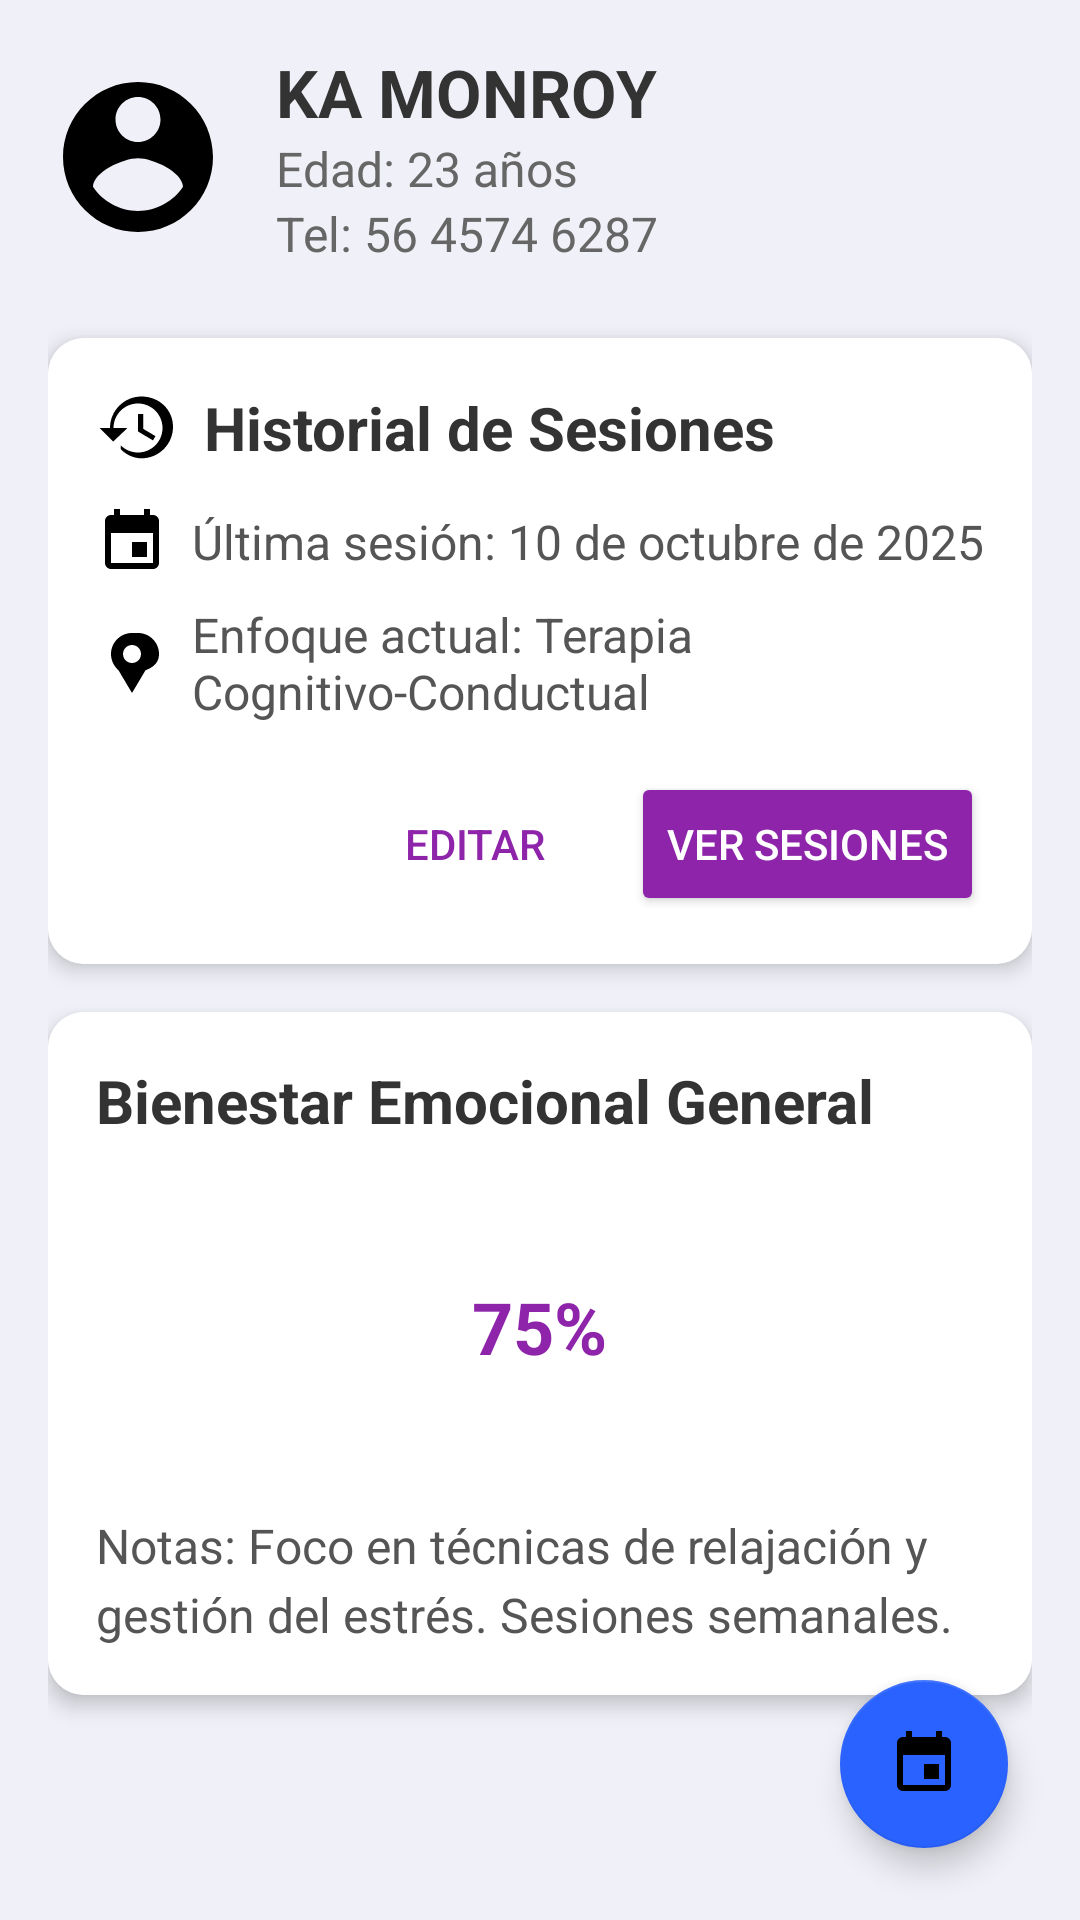

Point at icon controls on the screen. Image size 1080px×1920px, points as (x,y).
Calendario: (924,1764)
Icono de historial: (136,427)
Icono de paciente de psicología: (138,157)
Icono de última cita: (132,539)
